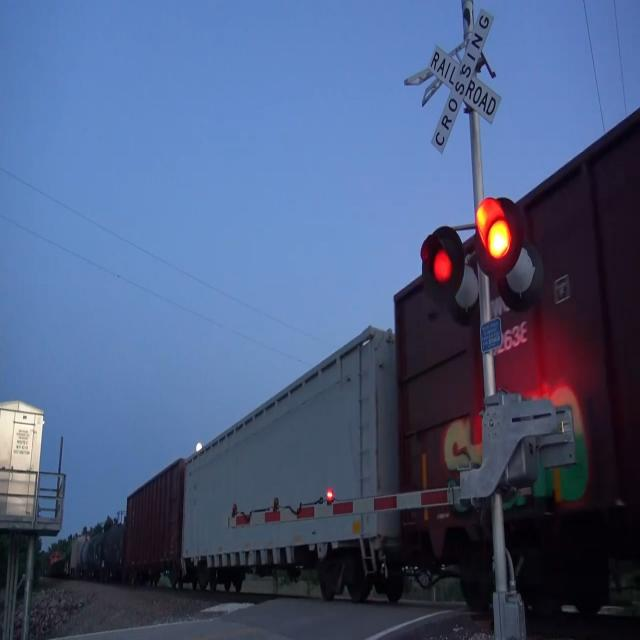gondola: (383, 96, 640, 622), (178, 313, 396, 612)
